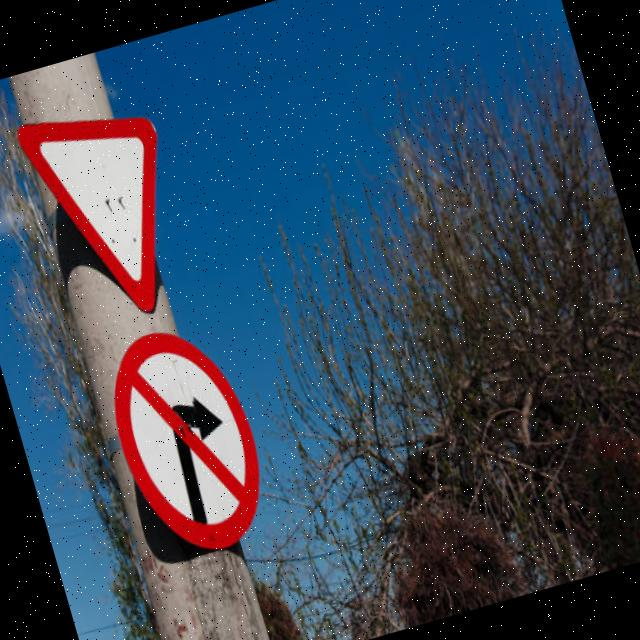do_not_turn_right: (87, 306, 290, 581)
give_way: (4, 79, 215, 341)
